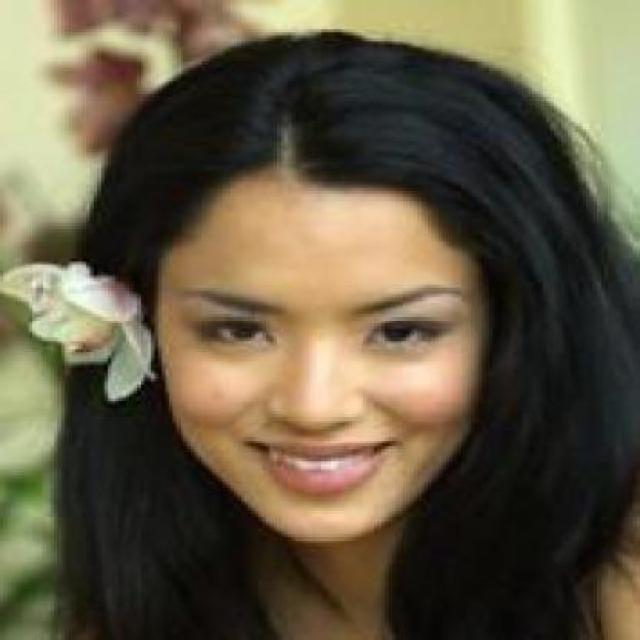closed-mouth: (246, 433, 397, 501)
